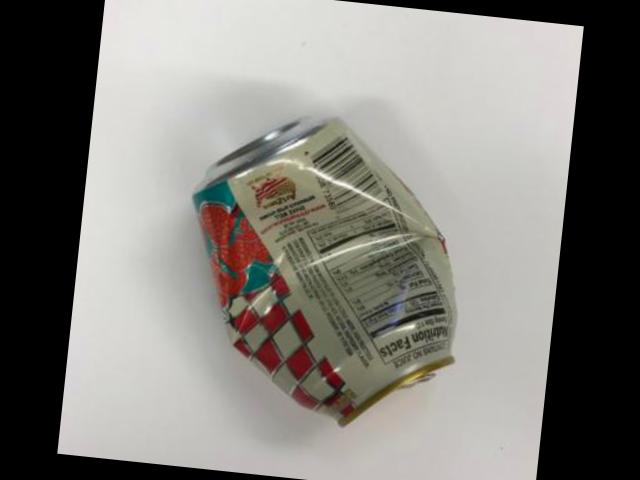metal: (195, 118, 457, 423)
